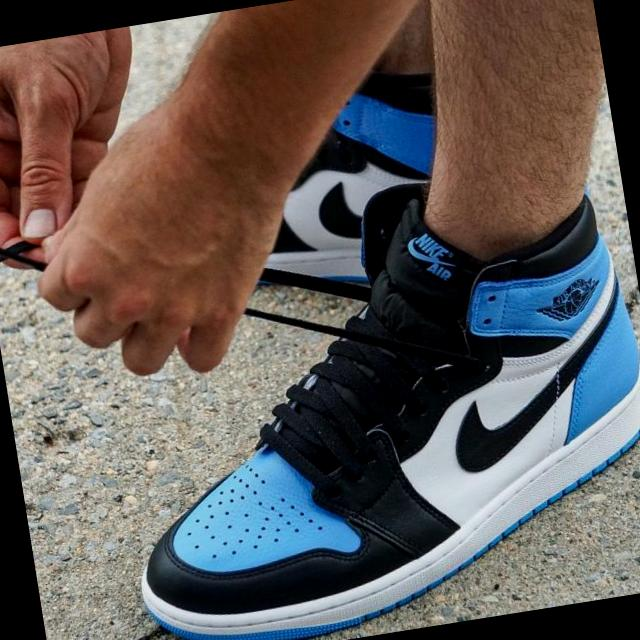nike_original_jordan: (84, 194, 640, 640)
